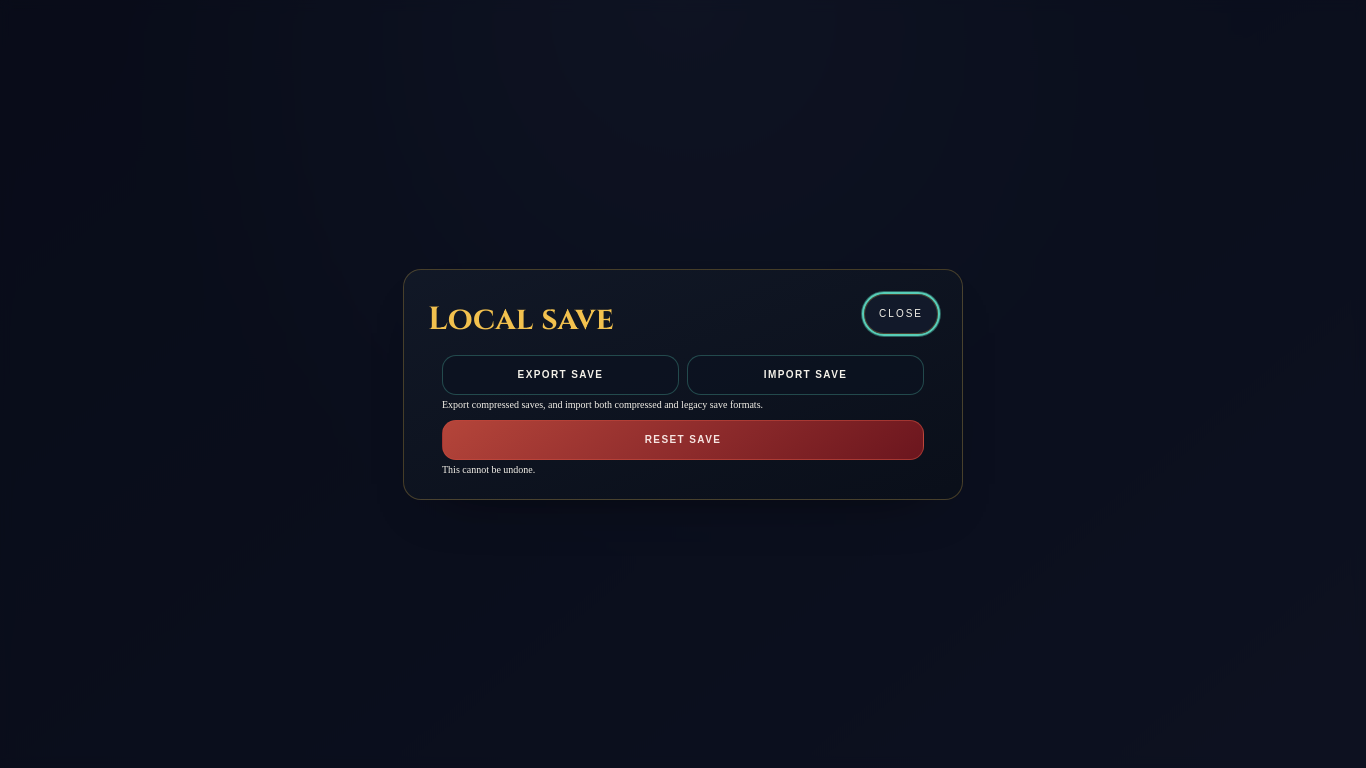
Test: LocalSaveModal › shows clipboard feedback after successful export
What coordinates should you click on to do the following:
click the button "Export save"
I would click on:
 (560, 374)
Its box is [442, 354, 679, 394].
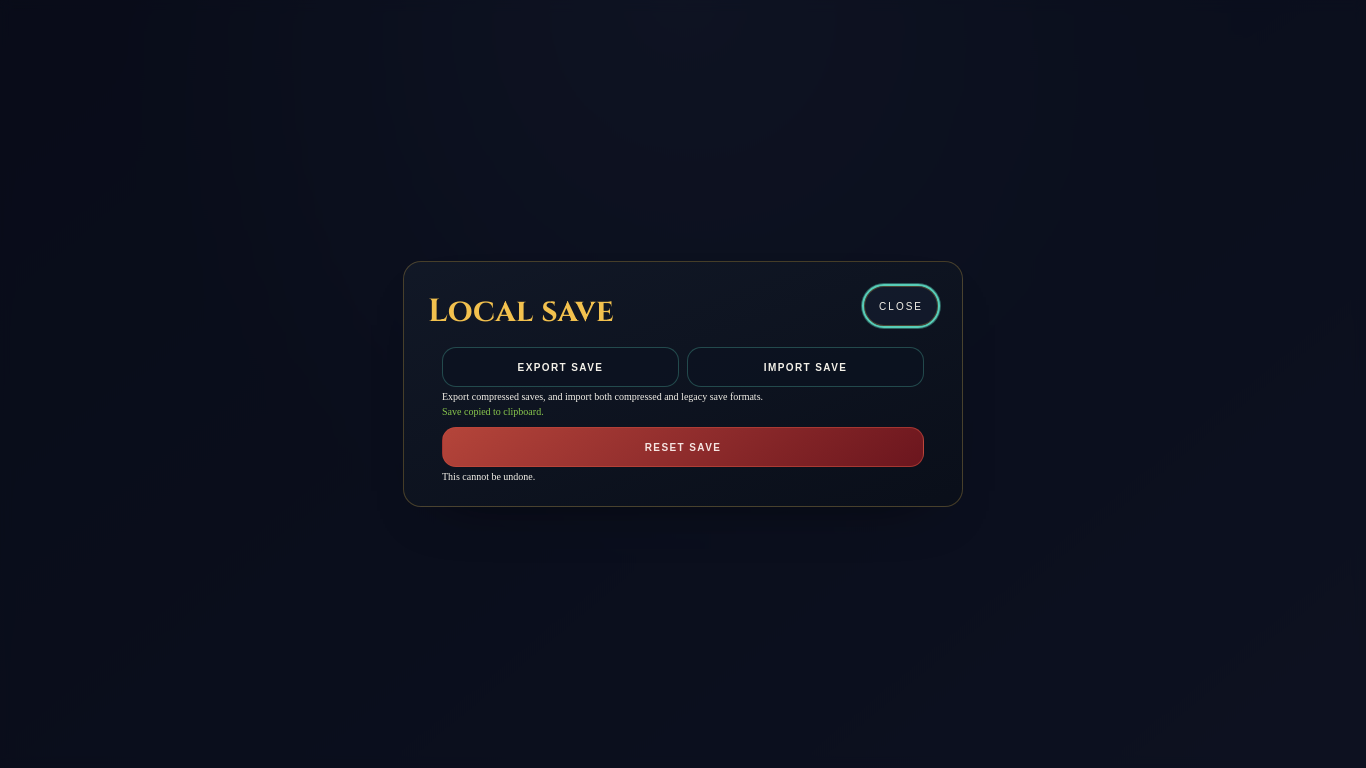
Now the text "Save copied to clipboard." is shown, box [442, 406, 544, 417]
